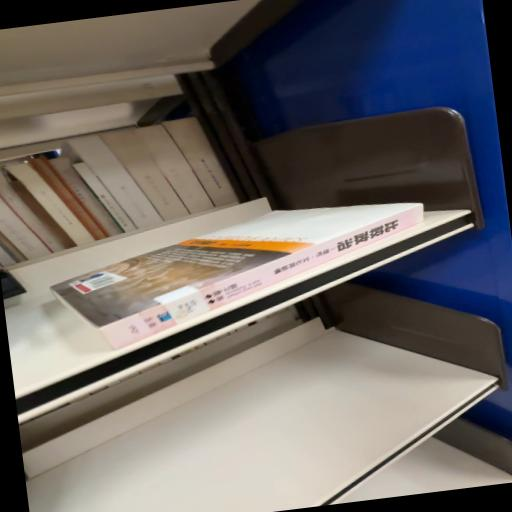flat: (51, 203, 423, 348)
